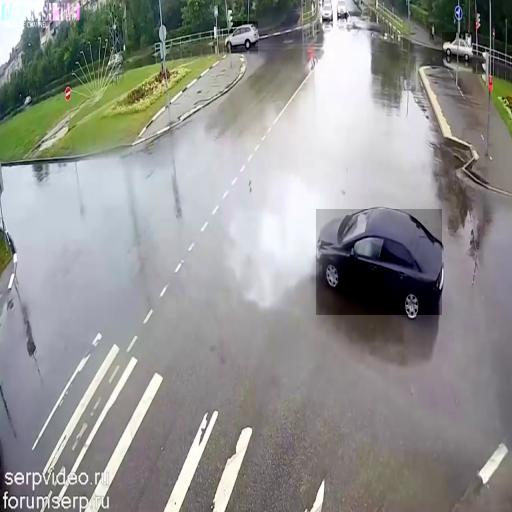小汽车: (316, 210, 442, 316), (227, 21, 258, 54), (442, 32, 472, 63), (320, 1, 334, 22)
